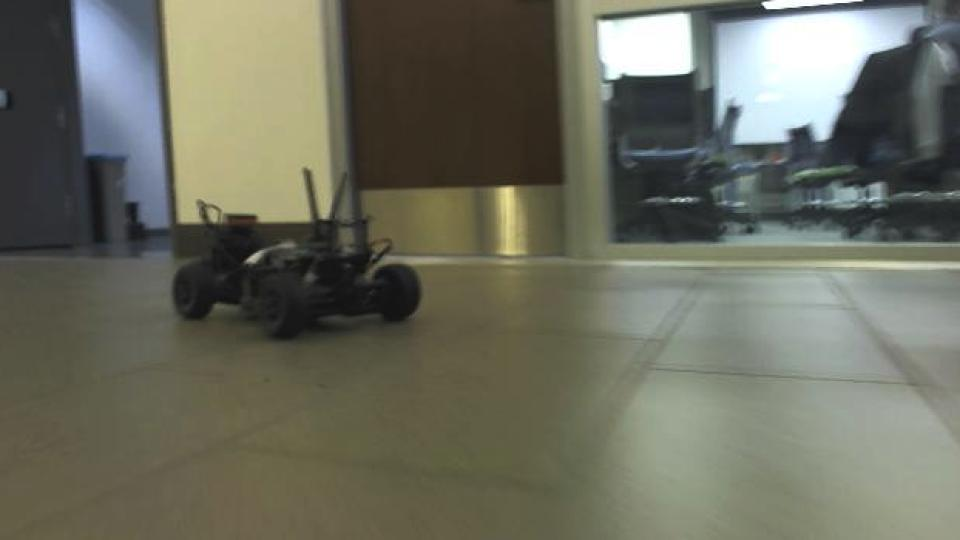car: (170, 164, 426, 341)
